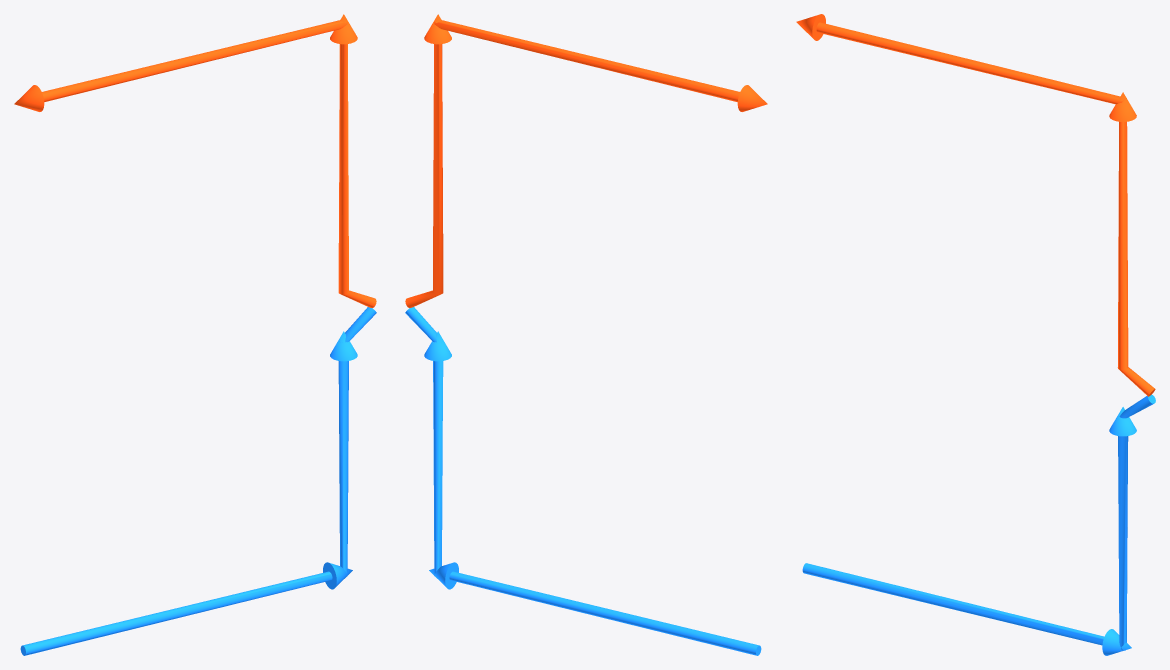
The model's file is diaphragm_metering_pump_flow.glb.
3 renders of one model, left to right at view 1: azimuth 30°, elevation 25°; view 2: azimuth 150°, elevation 25°; view 3: azimuth 330°, elevation 25°, orthographic.
Visible parts, largest first — view 1: flow_out, flow_in; view 2: flow_out, flow_in; view 3: flow_out, flow_in.
Boxes of the visible parts, x1,y1,x2,y2 form: flow_out: (14,14,376,307); flow_in: (20,307,376,655); flow_out: (405,14,767,307); flow_in: (405,307,761,655); flow_out: (796,14,1155,396); flow_in: (802,394,1155,655).
Bounding box in the file's own units: 0.3105 × 0.4708 × 0.0208.
